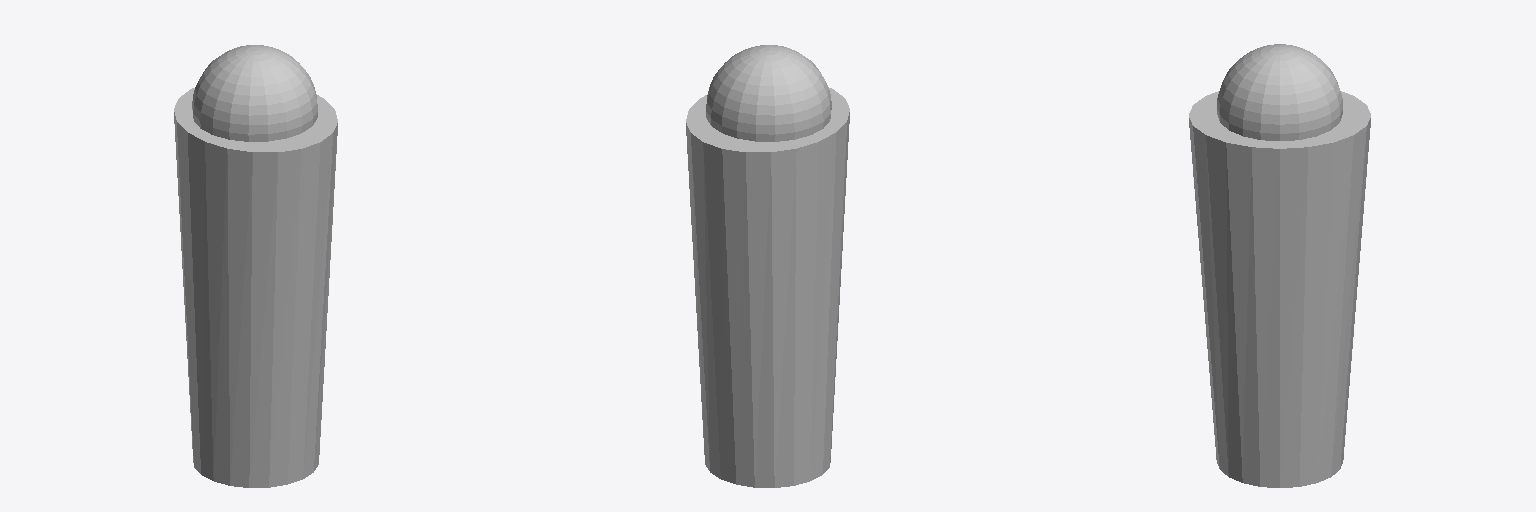
The model's file is Tower_1.obj.
3 renders of one model, left to right at view 1: azimuth 30°, elevation 25°; view 2: azimuth 150°, elevation 25°; view 3: azimuth 270°, elevation 25°, orthographic.
Visible parts, largest first — view 1: pCylinder1, pSphere1; view 2: pCylinder1, pSphere1; view 3: pCylinder1, pSphere1.
Boxes of the visible parts, box(x1,y1,x2,y2) form: pCylinder1: box(174, 88, 337, 487); pSphere1: box(192, 45, 317, 141); pCylinder1: box(686, 88, 849, 487); pSphere1: box(706, 45, 831, 141); pCylinder1: box(1189, 91, 1370, 487); pSphere1: box(1217, 44, 1342, 140).
Bounding box in the file's own units: 2.5 × 7.16 × 2.89.